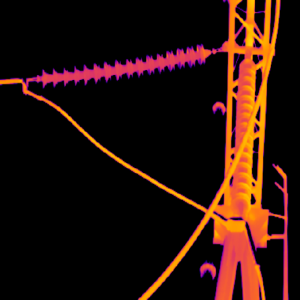insulator: (37, 40, 212, 86), (228, 58, 256, 211)
